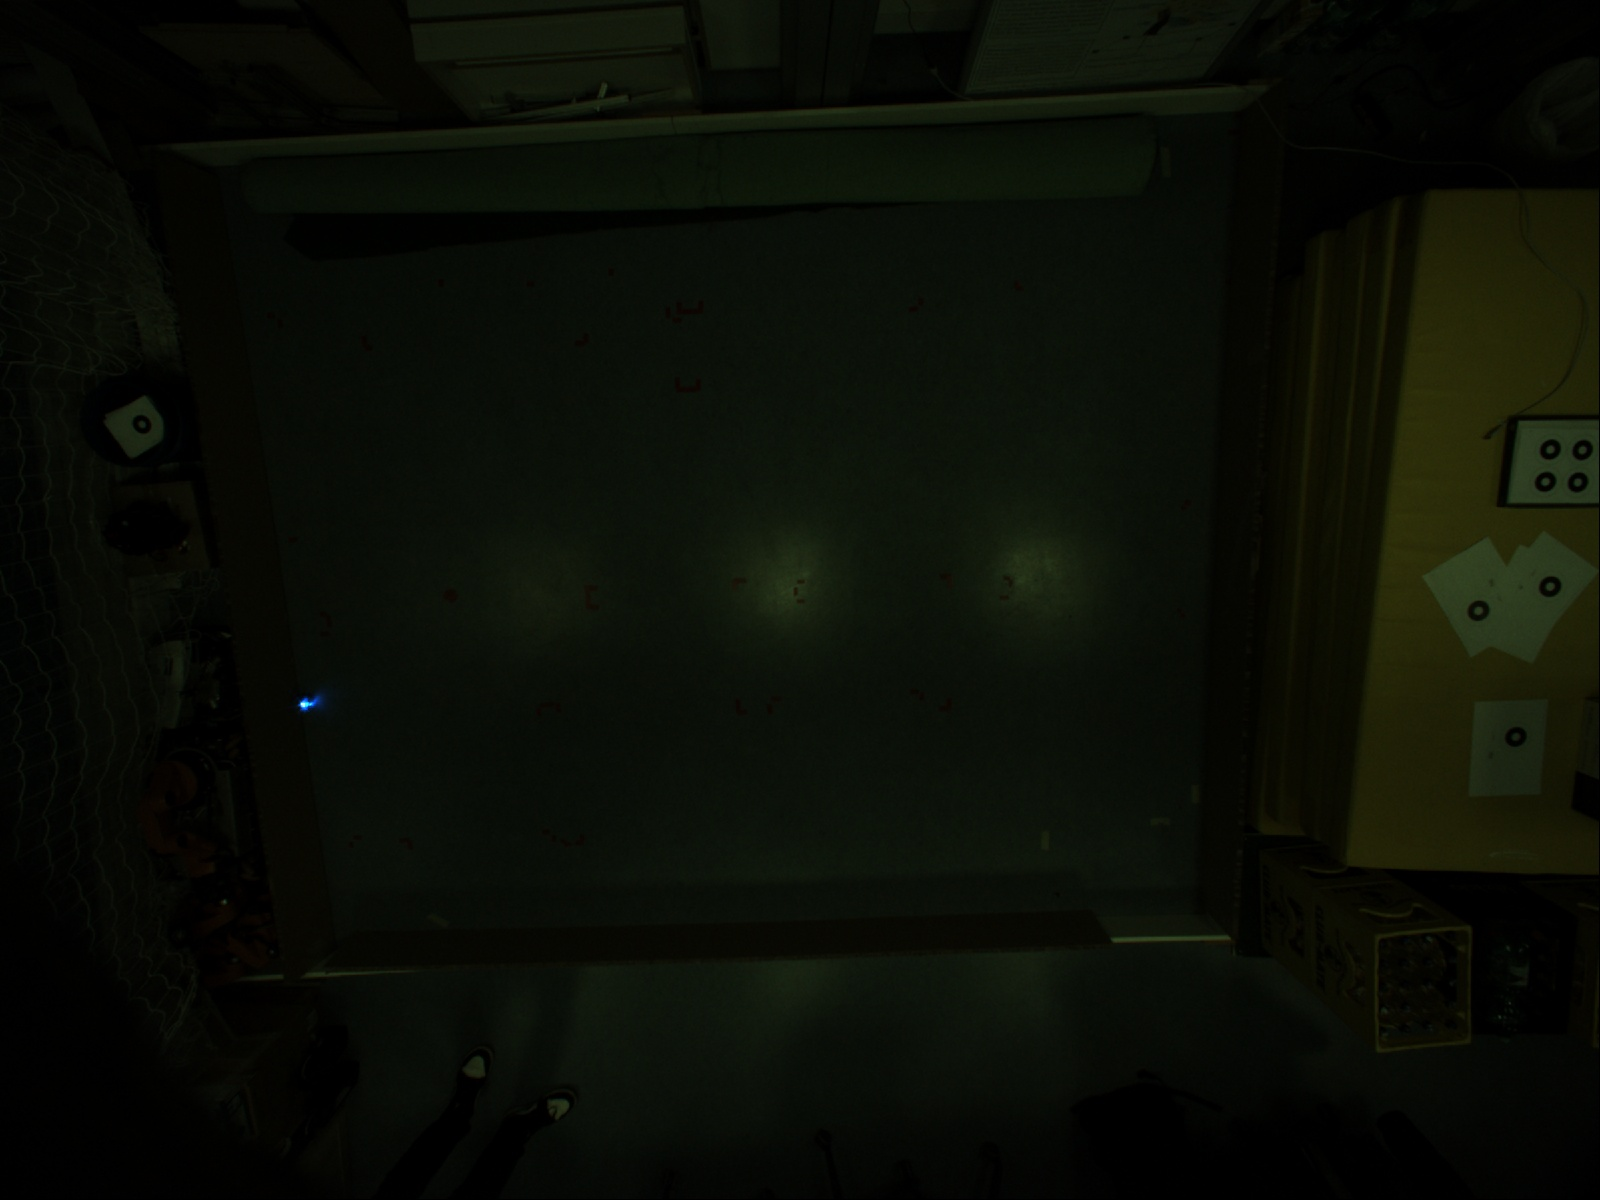sphero: (294, 689, 323, 717)
